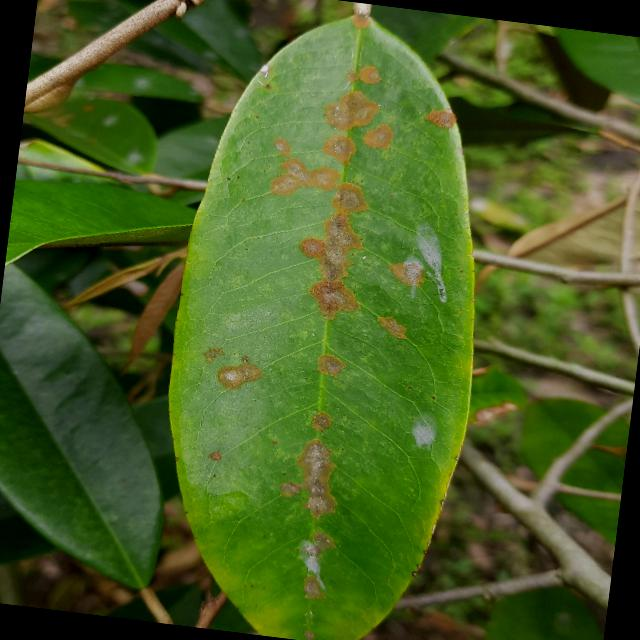Algal Leaf Spot: (124, 0, 521, 639)
